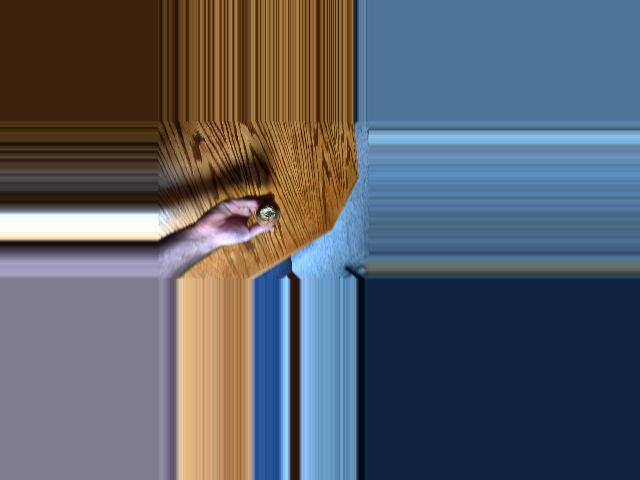sweet_potato: (255, 205, 286, 228)
